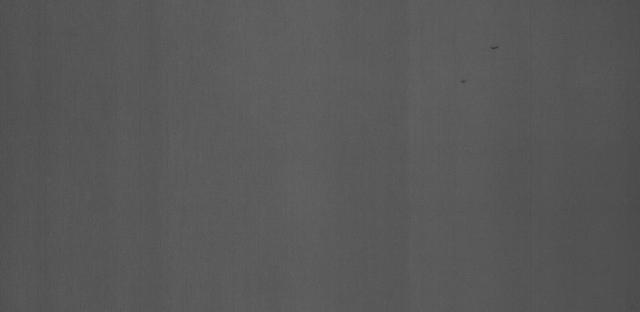inclusion: (459, 76, 471, 90), (488, 41, 499, 53)
